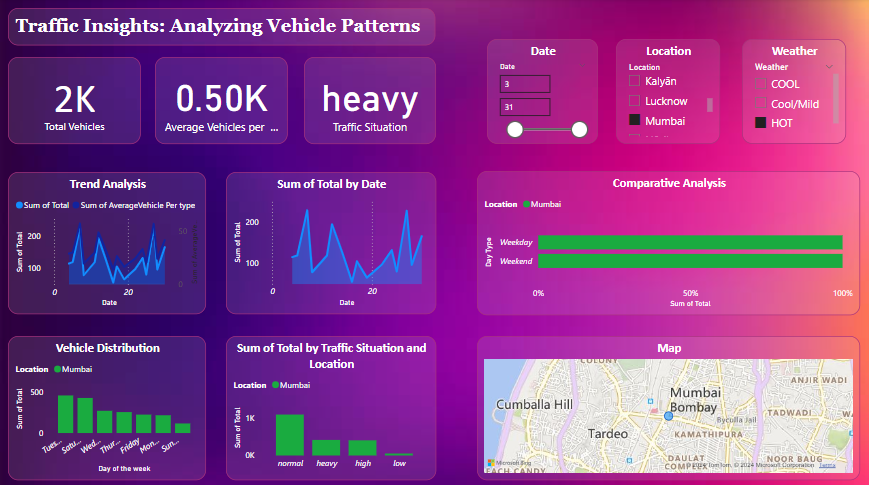

This screenshot's page, from the dashboard's own definition file:
{"tool":"powerbi","page":{"name":"Page 1","canvas":[1280,720],"ordinal":0},"visuals":[{"type":"textbox","box":[11.8,15.1,628.2,55.4],"z":1},{"type":"card","fields":{"Values":["Sum(Traffic Data.Total)"]},"box":[11.8,86.7,195.4,127.8],"z":2},{"type":"card","fields":{"Values":["Sum(Traffic Data.AverageVehicle Per type)"]},"box":[227.8,86.7,195.4,127.8],"z":3},{"type":"card","fields":{"Values":["Min(Traffic Data.Traffic Situation)"]},"box":[446.7,86.7,194,127.8],"z":4},{"type":"areaChart","title":"Trend Analysis","fields":{"Category":["Traffic Data.Date"],"Y":["Sum(Traffic Data.Total)"],"Y2":["Sum(Traffic Data.AverageVehicle Per type)"]},"box":[12,255.4,291.3,209.1],"z":5},{"type":"areaChart","fields":{"Category":["Traffic Data.Date"],"Y":["Sum(Traffic Data.Total)"]},"box":[332.1,255.7,308.6,208.7],"z":6},{"type":"columnChart","title":"Vehicle Distribution","fields":{"Category":["Traffic Data.Day of the week"],"Y":["Sum(Traffic Data.Total)"],"Series":["Traffic Data.Location"]},"box":[11.8,496.7,290.9,211.6],"z":7},{"type":"clusteredColumnChart","fields":{"Category":["Traffic Data.Traffic Situation"],"Y":["Sum(Traffic Data.Total)"],"Series":["Traffic Data.Location"]},"box":[332.1,496.7,308.6,211.6],"z":8},{"type":"slicer","title":"Location","fields":{"Values":["Traffic Data.Location"]},"box":[905.1,60.2,152.8,154.3],"z":9},{"type":"hundredPercentStackedBarChart","title":"Comparative Analysis","fields":{"Y":["Sum(Traffic Data.Total)"],"Category":["Traffic Data.Day Type"],"Series":["Traffic Data.Location"]},"box":[700.6,253.9,563.2,212.1],"z":12},{"type":"map","title":"Map","fields":{"Category":["Traffic Data.Location"],"Size":["Sum(Traffic Data.Total)"]},"box":[700.6,495.9,563.2,212.1],"z":13},{"type":"slicer","title":"Date","fields":{"Values":["Traffic Data.Date"]},"box":[715.6,60.2,163.1,154.3],"z":14},{"type":"slicer","title":"Weather","fields":{"Values":["Traffic Data.Weather"]},"box":[1090.3,60.2,152.8,154.3],"z":15}]}

Visuals, with their boxes in screenshot pixels (x1, y1, x2, y2), scaled from the page's 1280x720 canvas onto the 869x485 screenshot:
textbox: l=8, t=10, r=434, b=47
card - Sum(Traffic Data.Total): l=8, t=58, r=141, b=144
card - Sum(Traffic Data.AverageVehicle Per type): l=155, t=58, r=287, b=144
card - Min(Traffic Data.Traffic Situation): l=303, t=58, r=435, b=144
"Trend Analysis" areaChart: l=8, t=172, r=206, b=313
areaChart - Traffic Data.Date x Sum(Traffic Data.Total): l=225, t=172, r=435, b=313
"Vehicle Distribution" columnChart: l=8, t=335, r=206, b=477
clusteredColumnChart - Traffic Data.Traffic Situation x Sum(Traffic Data.Total): l=225, t=335, r=435, b=477
"Location" slicer: l=614, t=41, r=718, b=144
"Comparative Analysis" hundredPercentStackedBarChart: l=476, t=171, r=858, b=314
"Map" map: l=476, t=334, r=858, b=477
"Date" slicer: l=486, t=41, r=597, b=144
"Weather" slicer: l=740, t=41, r=844, b=144
